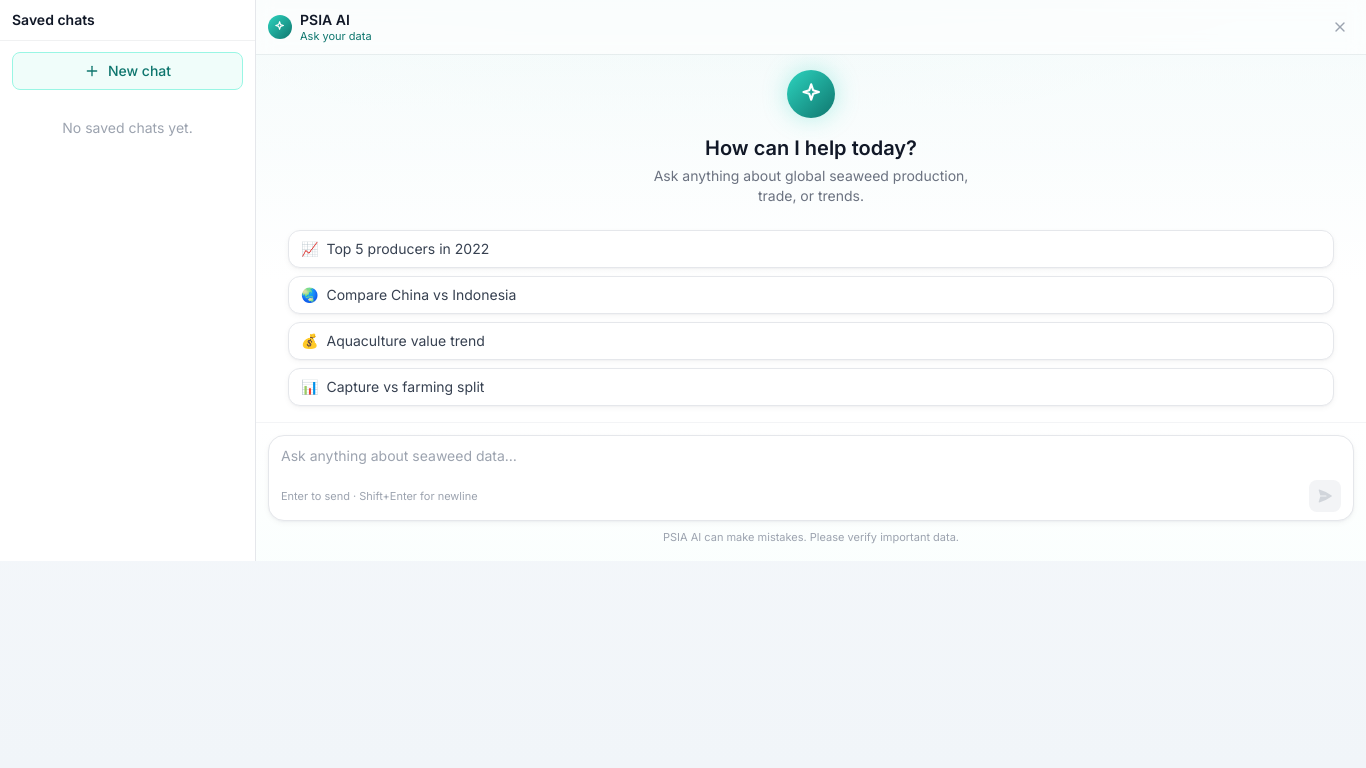
Test: ChatPanel error replies › shows the backend error message in the error bubble
The image size is (1366, 768).
Type "growth question" into the text box with placeholder "Ask anything about seaweed data…" at [811, 456], box [281,446,1341,466]
Then press Enter
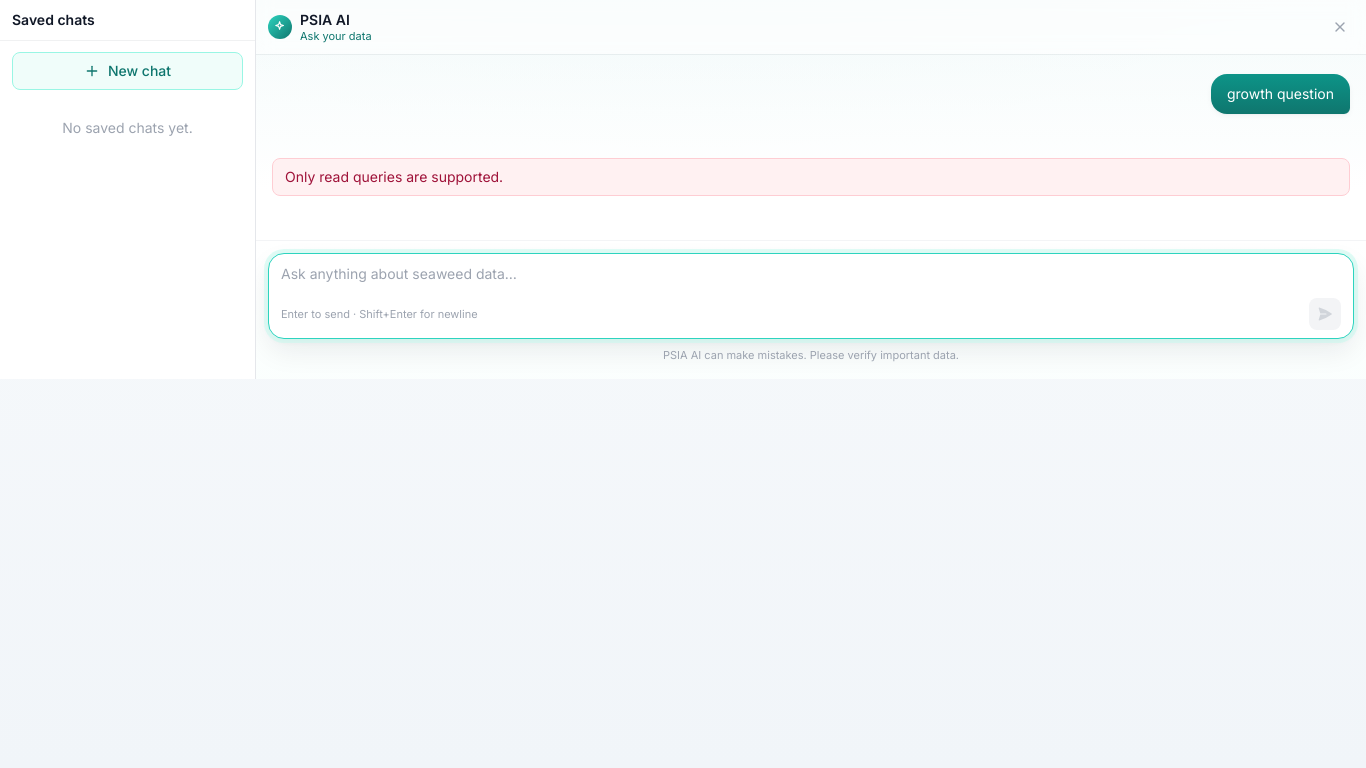
Expected: the text "Only read queries are supported." is shown, [272,158,1350,196]
